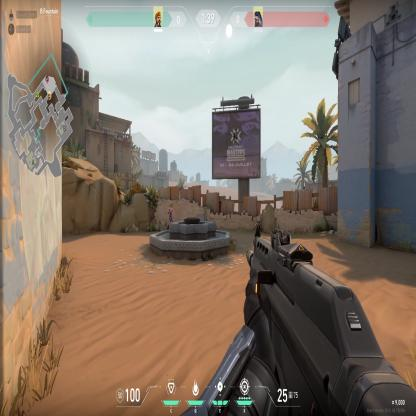enemy: (168, 204, 174, 222)
